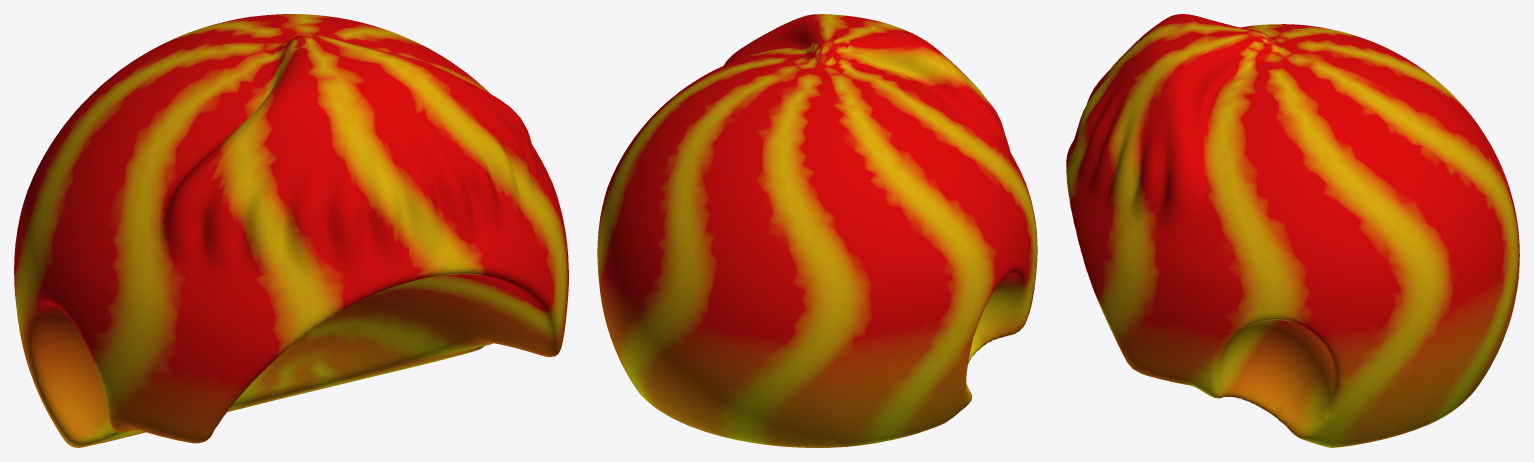
File: crew.glb
3 views of the same model, side by side, from view 1: azimuth 30°, elevation 25°; view 2: azimuth 150°, elevation 25°; view 3: azimuth 270°, elevation 25° (orthographic). The views are drawn at different scales.
Parts seen in each view (by area): view 1: part; view 2: part; view 3: part.
Boxes of the visible parts, x1=… form: part: x1=14, y1=14, x2=568, y2=447; part: x1=597, y1=14, x2=1037, y2=447; part: x1=1066, y1=14, x2=1519, y2=447.
Bounding box in the file's own units: 2.04 × 1.65 × 1.99.
